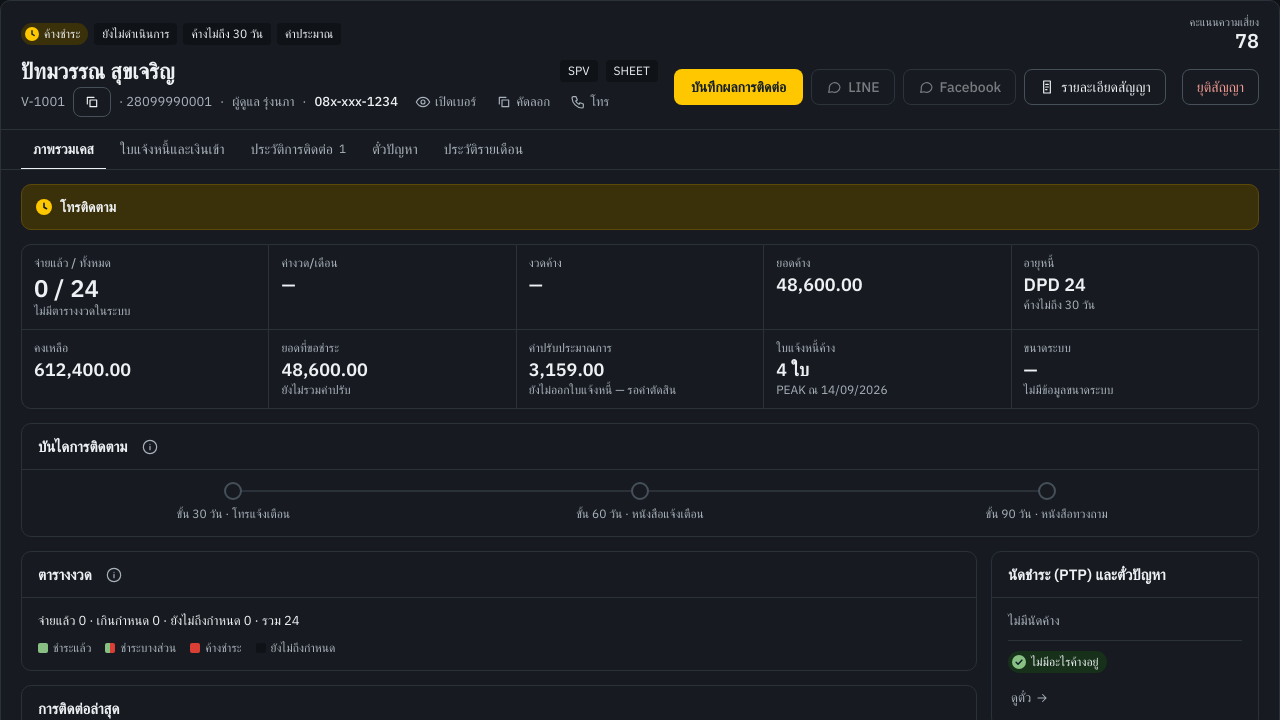
it: the case header and tabs (design D) › keeps the cycle provenance one click away in the card head
Click the button named "ข้อมูลเพิ่มเติม" in the row of "นัดชำระ (PTP) และตั๋วปัญหา": (114, 574) [100, 560, 128, 588]
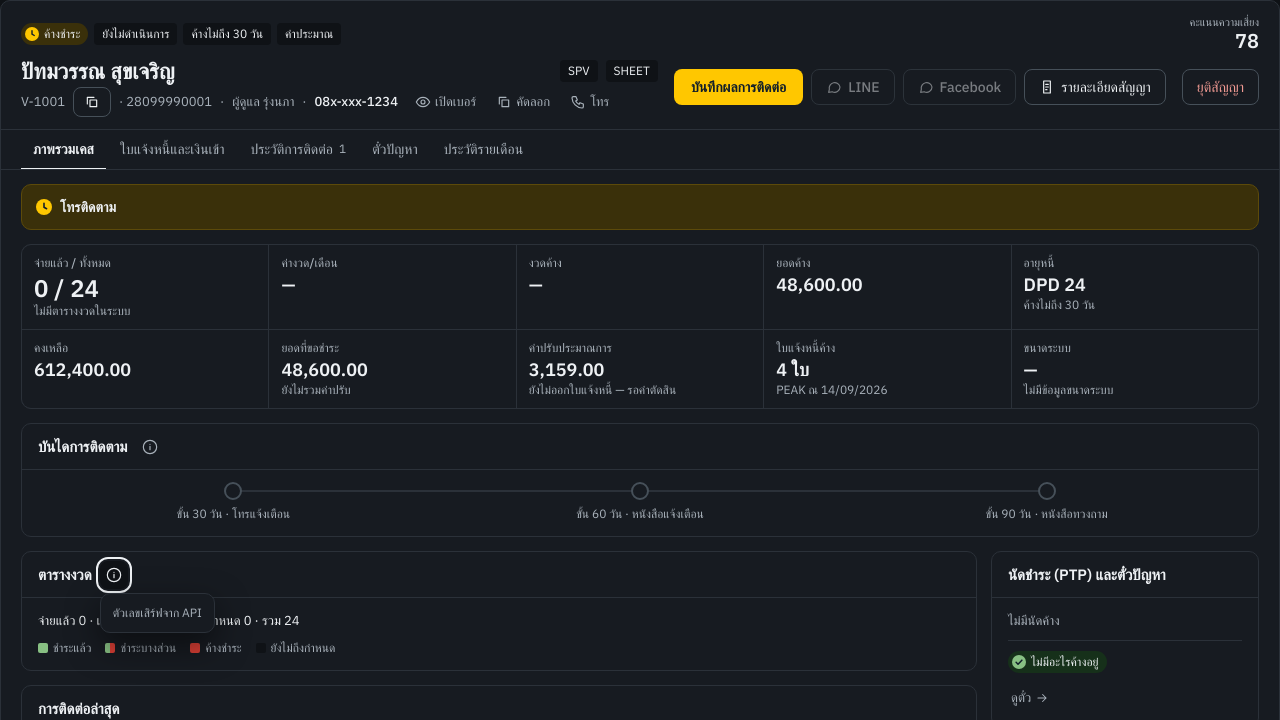
Result: the text "ตัวเลขเสิร์ฟจาก API" is shown at [100, 592, 215, 632]
